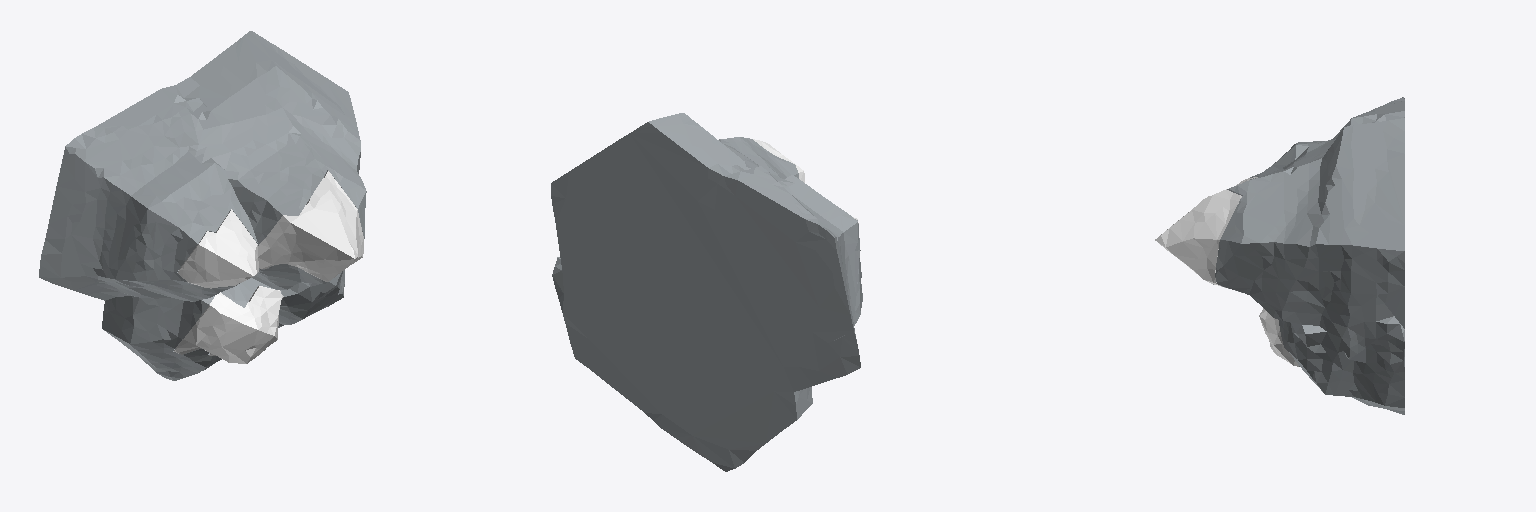
Rendered from tinker.obj.
3 views of the same model, side by side, from view 1: azimuth 30°, elevation 25°; view 2: azimuth 150°, elevation 25°; view 3: azimuth 270°, elevation 25° (orthographic).
Visible parts, largest first — view 1: obj_0; view 2: obj_0; view 3: obj_0.
Boxes of the visible parts, x1,y1,x2,y2 form: obj_0: [39, 31, 366, 380]; obj_0: [551, 113, 862, 471]; obj_0: [1155, 97, 1404, 414].
Size of the model in its own units: 85.5 by 87.48 by 59.79.